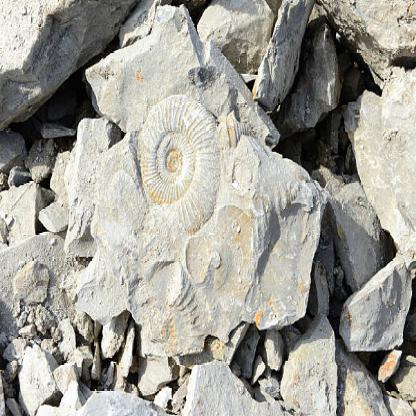Sedimentary_Limestone: (72, 5, 325, 344), (342, 243, 416, 390), (275, 317, 343, 415), (180, 355, 270, 415), (36, 387, 171, 415), (18, 358, 62, 411)
